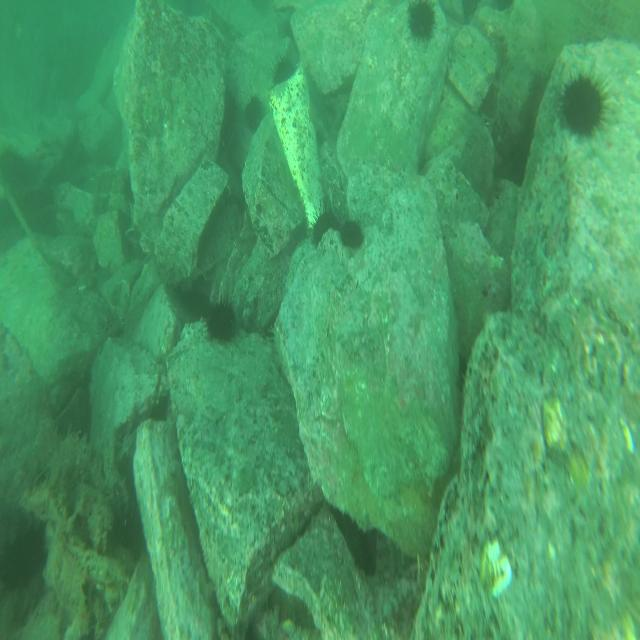echinus: (1, 522, 46, 588), (562, 75, 606, 138), (407, 2, 438, 46), (208, 300, 236, 343), (312, 207, 339, 249), (340, 218, 364, 255), (244, 95, 266, 132), (272, 55, 294, 90)
